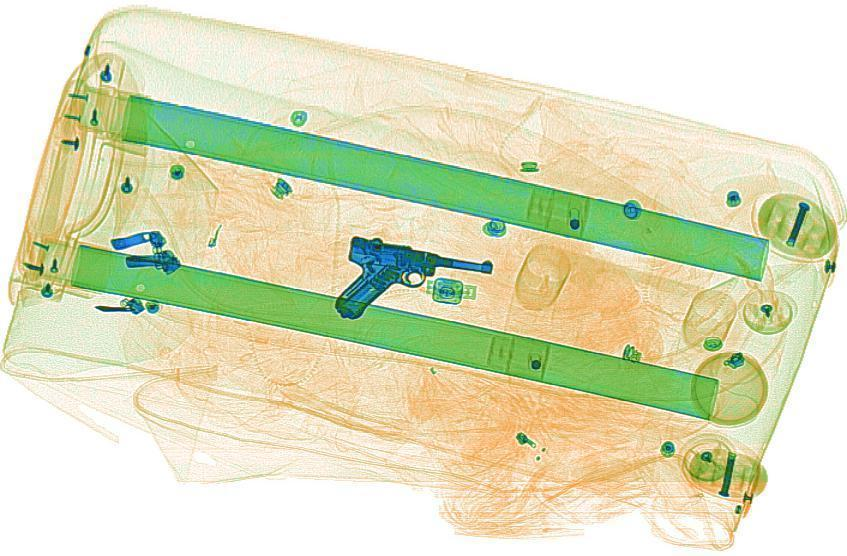Gun: (313, 234, 497, 339)
